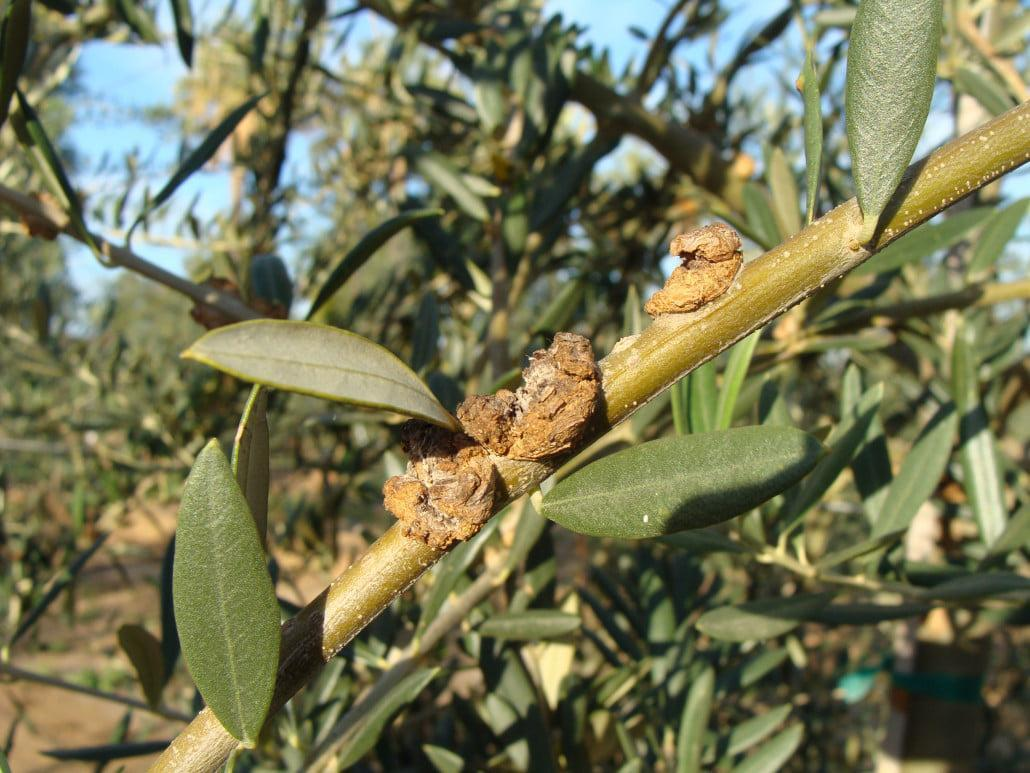Tuberculosis: (450, 322, 618, 461), (375, 459, 508, 551), (648, 200, 738, 322)
